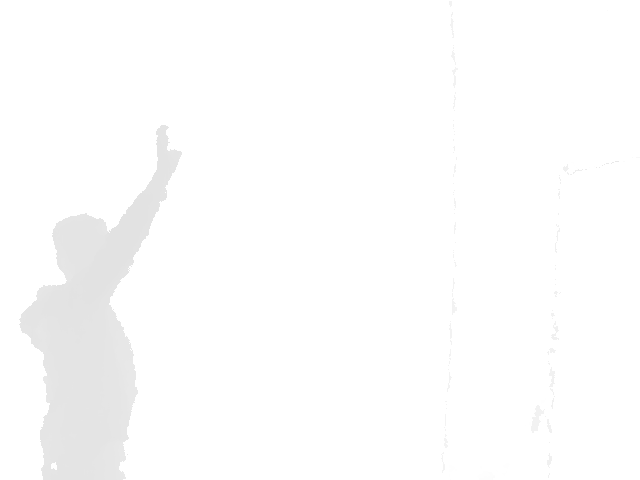hand: (148, 123, 182, 184)
head: (52, 213, 113, 285)
person: (18, 123, 183, 480)
